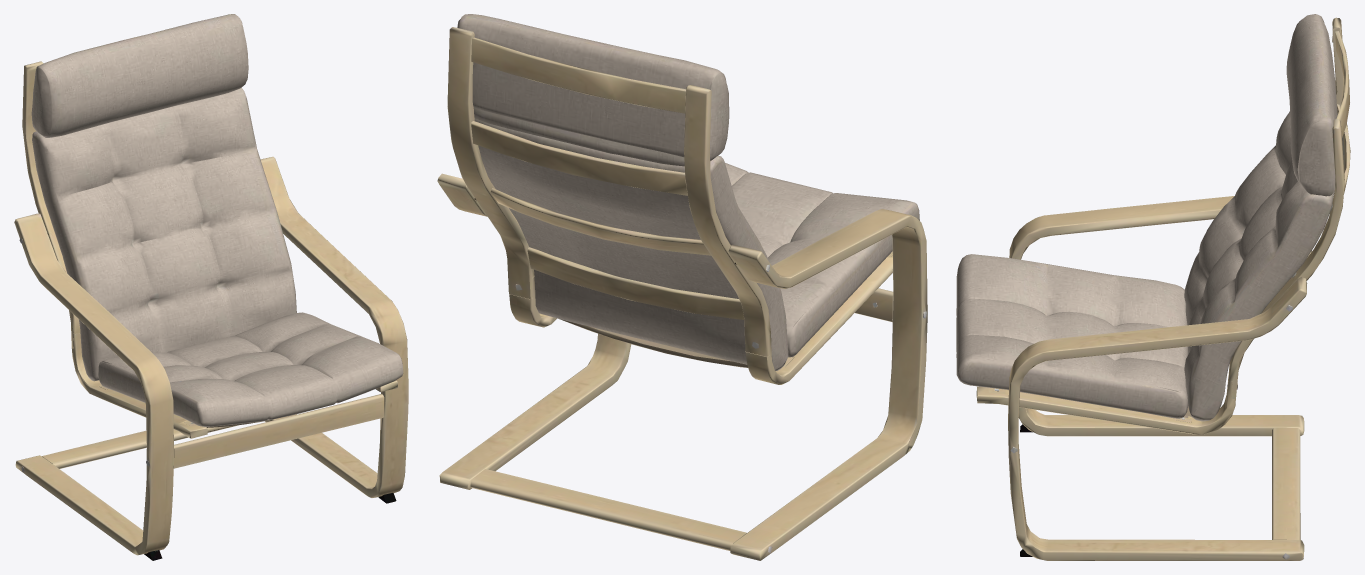
3 views of the same model, side by side, from view 1: azimuth 30°, elevation 25°; view 2: azimuth 150°, elevation 25°; view 3: azimuth 270°, elevation 25° (orthographic). The views are drawn at different scales.
Parts seen in each view (by area): view 1: Mesh_0; view 2: Mesh_0; view 3: Mesh_0.
Part boxes in pixels (x1,y1,x2,y2): Mesh_0: [14, 14, 408, 560]; Mesh_0: [437, 14, 927, 560]; Mesh_0: [956, 14, 1350, 560].
Bounding box in the file's own units: 0.6872 × 0.9943 × 0.827.
2 materials, 2 textured.
